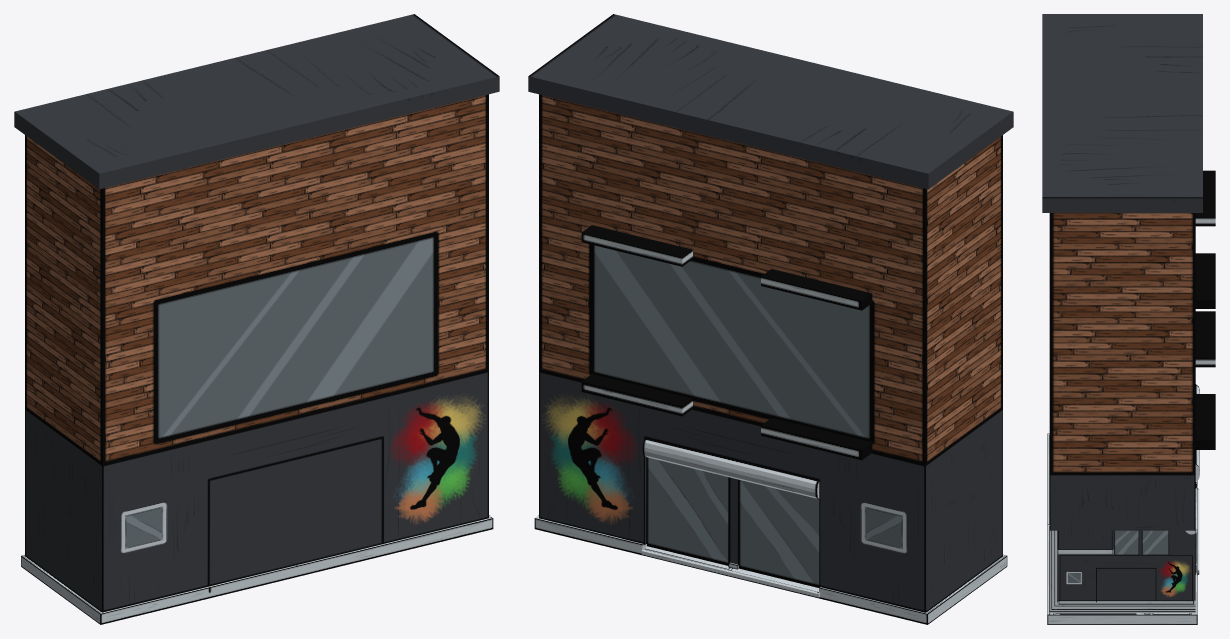
Rendered from Club d_escalade.fbx.
3 views of the same model, side by side, from view 1: azimuth 30°, elevation 25°; view 2: azimuth 150°, elevation 25°; view 3: azimuth 270°, elevation 25° (orthographic). The views are drawn at different scales.
Visible parts, largest first — view 1: ClimbClub; view 2: ClimbClub; view 3: ClimbClub.
Part boxes in pixels (x1=…): ClimbClub: x1=14, y1=14, x2=499, y2=624; ClimbClub: x1=528, y1=14, x2=1013, y2=624; ClimbClub: x1=1042, y1=14, x2=1215, y2=624.
Size of the model in its own units: 93.18 by 101 by 36.99.
